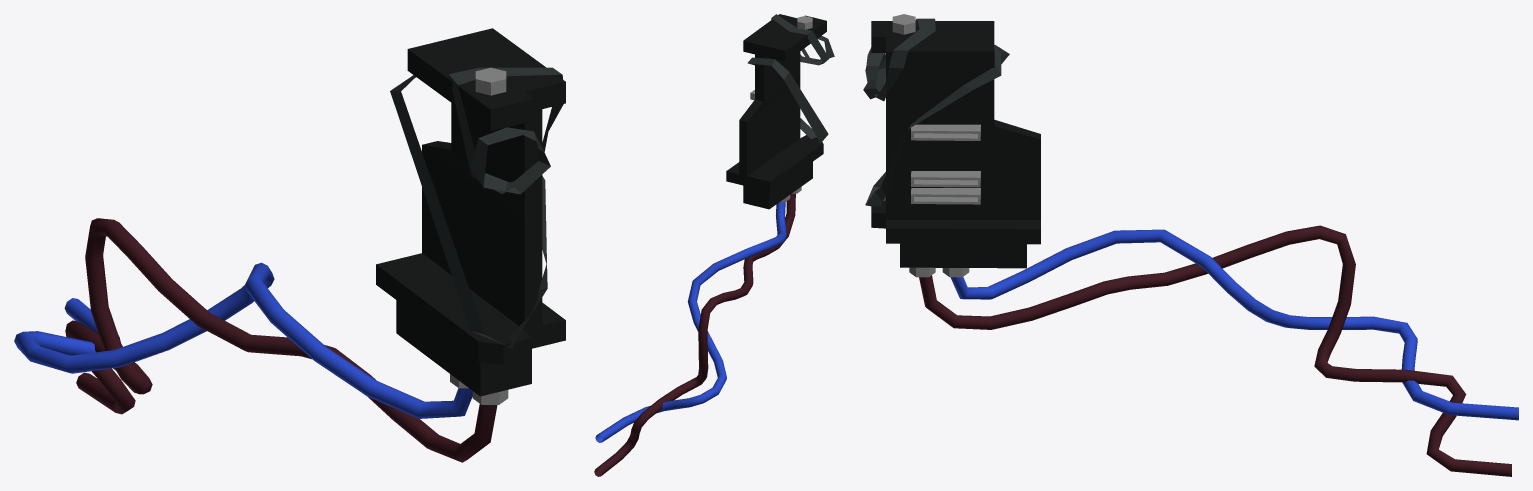
File: armv2_3_connector.obj
3 renders of one model, left to right at view 1: azimuth 30°, elevation 25°; view 2: azimuth 150°, elevation 25°; view 3: azimuth 270°, elevation 25°, orthographic. The views are drawn at different scales.
Visible parts, largest first — view 1: CapHolder, BézierCurve.002, BézierCurve, ropes; view 2: CapHolder, BézierCurve.002, BézierCurve, ropes; view 3: CapHolder, BézierCurve.002, BézierCurve, ropes.
Part boxes in pixels (box(x1,y1,x2,y2)): CapHolder: box(376, 28, 565, 404); BézierCurve.002: box(65, 218, 497, 462); BézierCurve: box(14, 262, 472, 418); ropes: box(390, 67, 563, 348); CapHolder: box(726, 14, 826, 209); BézierCurve.002: box(594, 193, 795, 476); BézierCurve: box(595, 202, 786, 442); ropes: box(747, 14, 834, 143); CapHolder: box(871, 14, 1040, 277); BézierCurve.002: box(919, 225, 1511, 476); BézierCurve: box(950, 229, 1518, 420); ropes: box(863, 18, 1009, 206).
Bounding box in the file's own units: 0.079 × 0.2198 × 0.2864.
